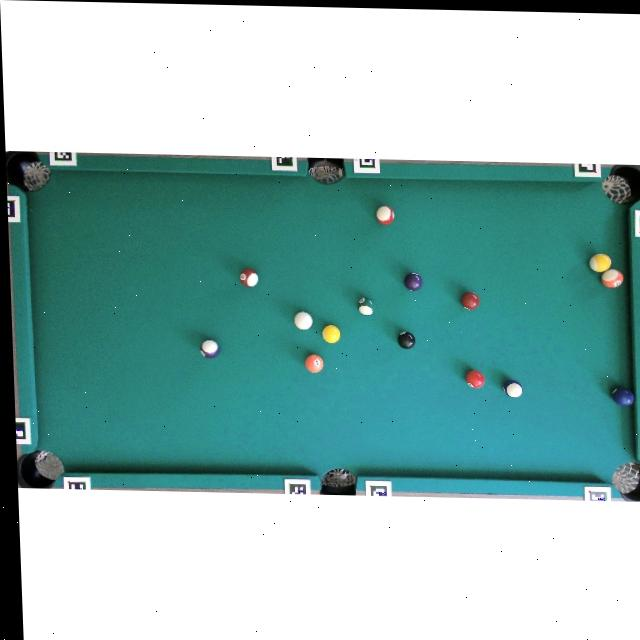cue ball: (294, 311, 312, 330)
other: (611, 386, 636, 407), (589, 253, 613, 273), (601, 269, 624, 289), (465, 370, 486, 390), (199, 340, 220, 359), (502, 380, 523, 398), (305, 354, 324, 373), (375, 206, 394, 224), (397, 331, 416, 349), (239, 269, 258, 287), (461, 292, 480, 310), (404, 273, 422, 291), (322, 325, 340, 343), (357, 296, 374, 315)
